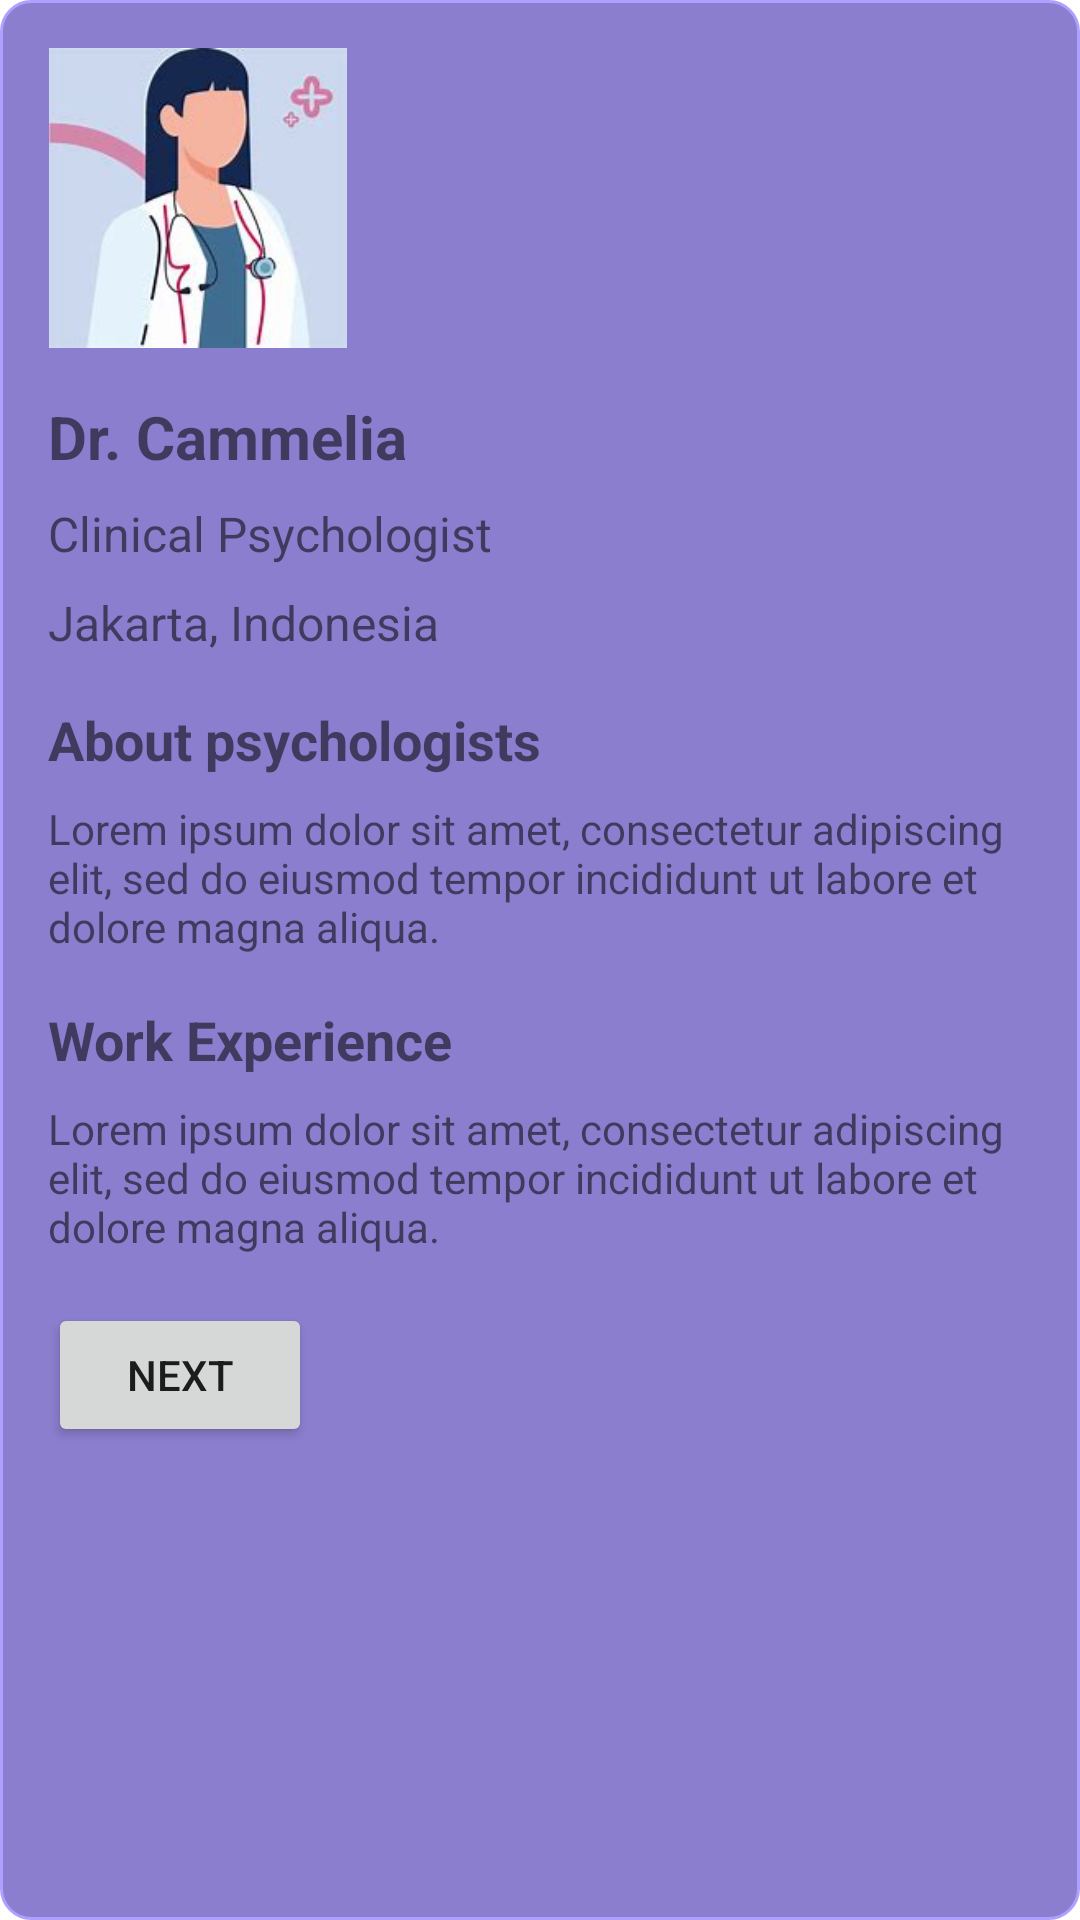

Screen size 1080 × 1920. Icon name, then its center in pixels as point (x, y):
profil: point (198, 198)
